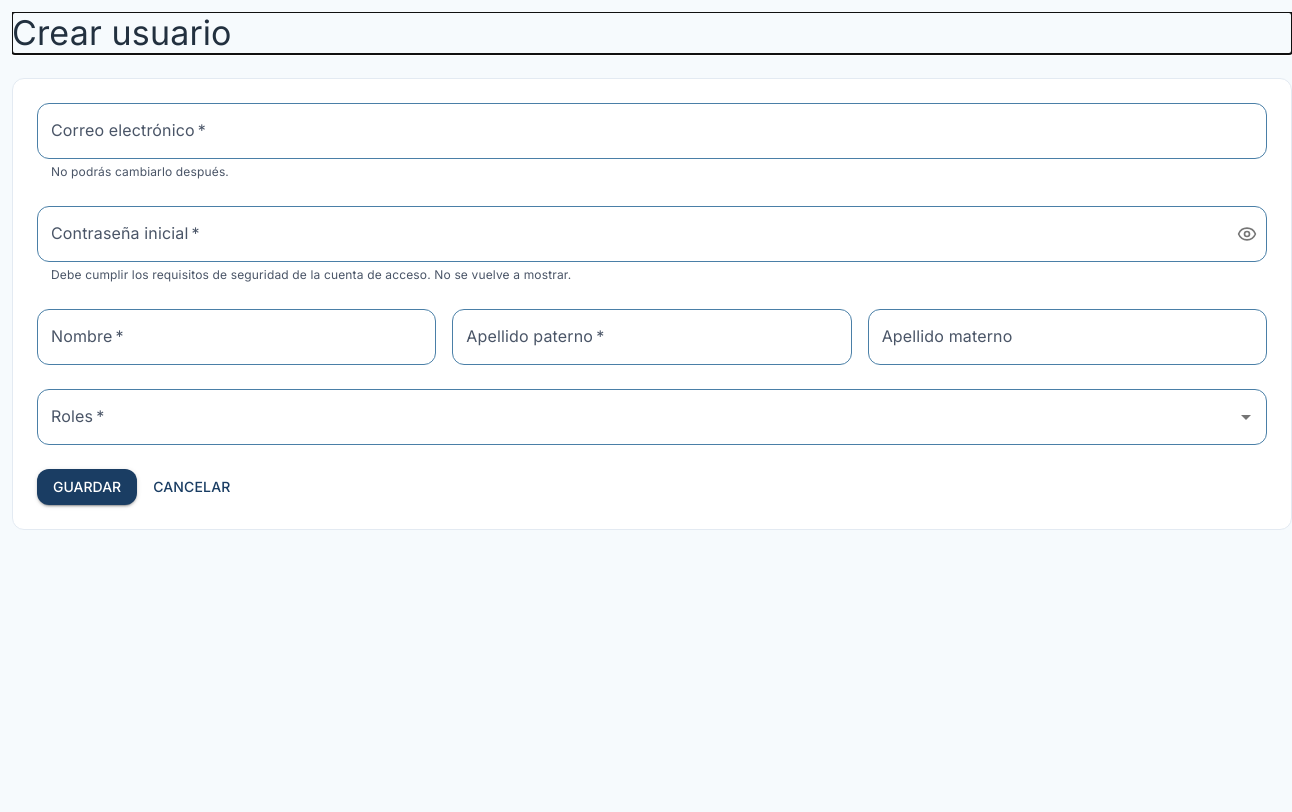
Test case: UserCreatePage: the form › shows the error of every field that is missing and puts the focus on the first (US2-3)
Expected: the dropdown labelled "Roles *" is enabled, [46,398,1228,436]
Click the button "Guardar" at (87, 487), box [37,469,137,505]
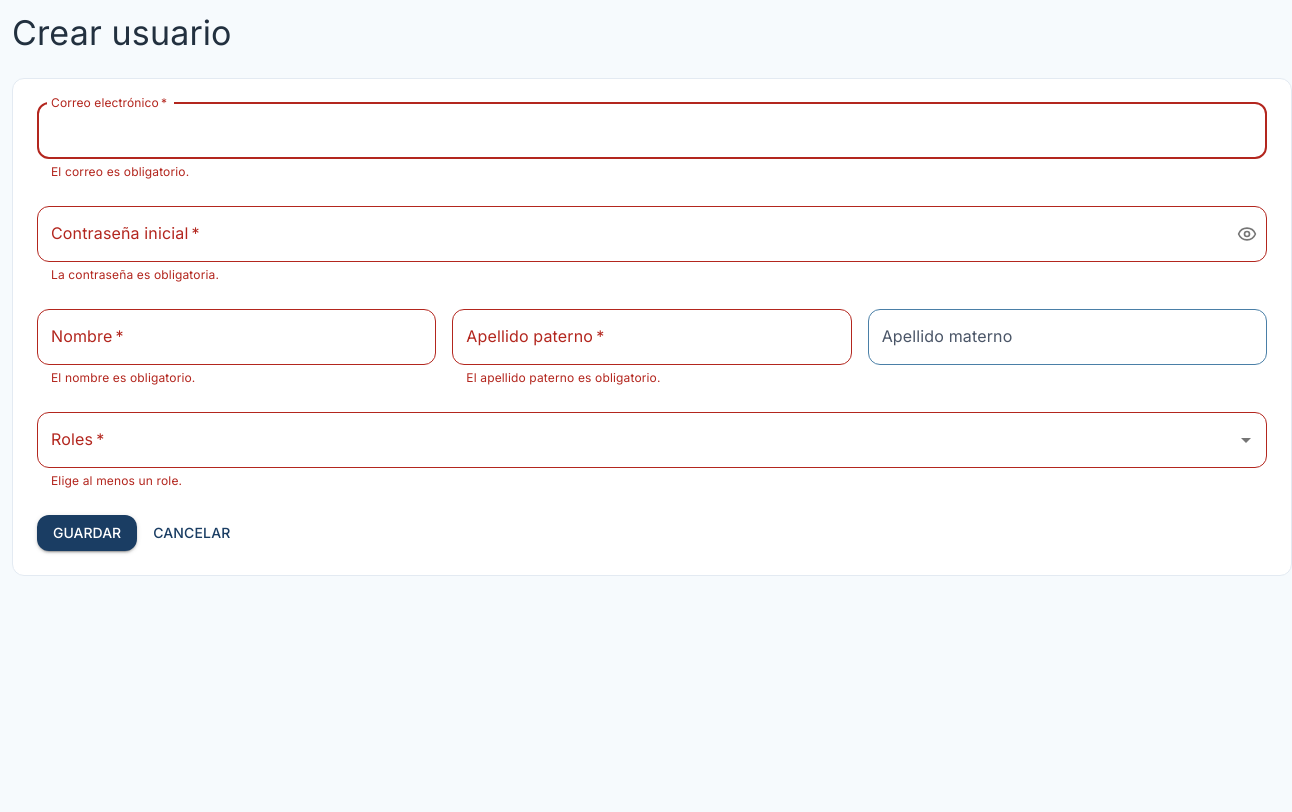
Result: the text "El correo es obligatorio." is shown at [51,164,189,179]
Result: the text "La contraseña es obligatoria." is shown at [51,267,219,282]
Result: the text "El nombre es obligatorio." is shown at [51,370,195,385]
